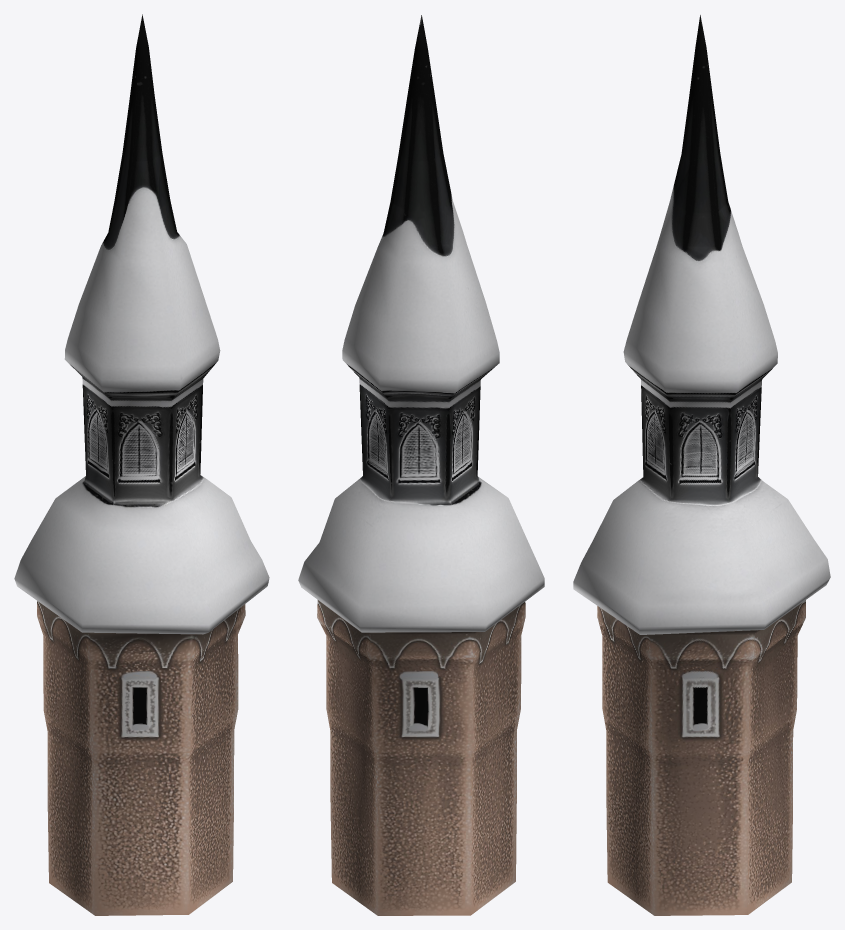
The model's file is MiniTower-1.FBX.
3 views of the same model, side by side, from view 1: azimuth 30°, elevation 25°; view 2: azimuth 150°, elevation 25°; view 3: azimuth 270°, elevation 25° (orthographic).
Parts seen in each view (by area): view 1: MiniTower; view 2: MiniTower; view 3: MiniTower.
Part boxes in pixels (<box>): MiniTower: <box>14,14,269,915</box>; MiniTower: <box>298,15,544,915</box>; MiniTower: <box>573,15,830,915</box>.
Bounding box in the file's own units: 15.55 × 66.8 × 17.93.
Materials: 1 (1 with a texture image).
